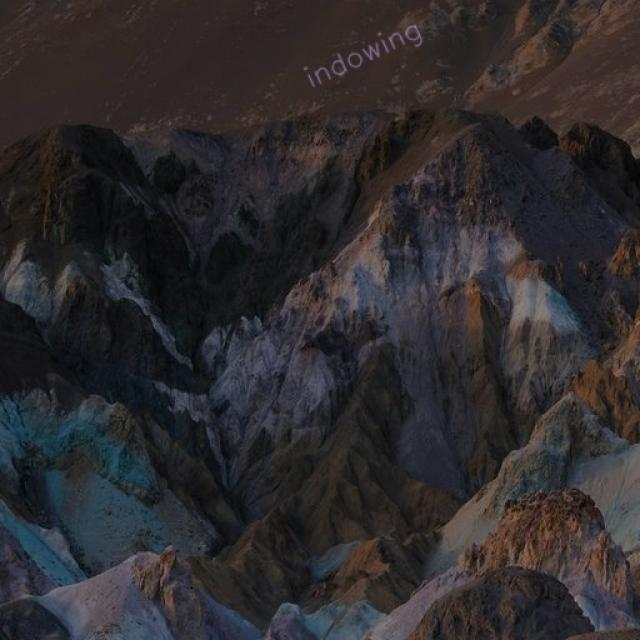watermark: (302, 12, 423, 92)
